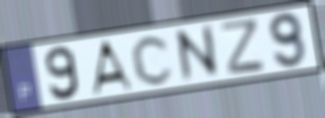9: (266, 11, 309, 71), (44, 45, 81, 101)
A: (88, 38, 135, 96)
C: (130, 34, 176, 87)
N: (171, 22, 223, 86)
Z: (219, 16, 267, 76)
